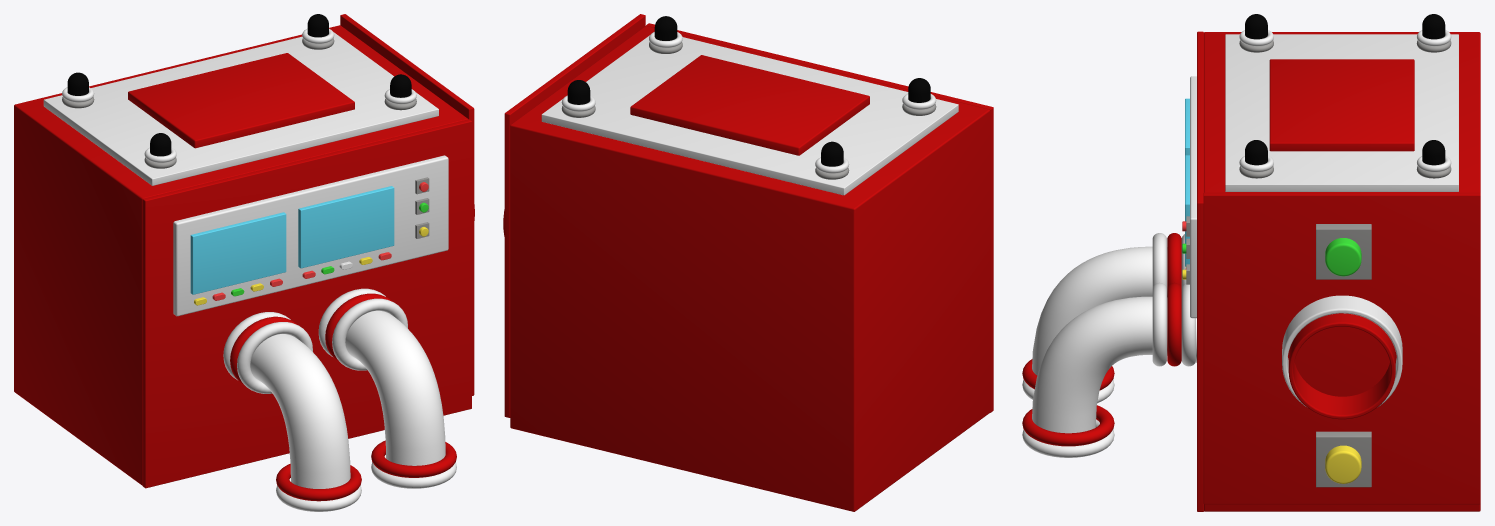
The model's file is machine33.fbx.
3 views of the same model, side by side, from view 1: azimuth 30°, elevation 25°; view 2: azimuth 150°, elevation 25°; view 3: azimuth 270°, elevation 25° (orthographic). The views are drawn at different scales.
Parts seen in each view (by area): view 1: Obj3d66-9320056-645-792, Obj3d66-9320056-646-365, Obj3d66-9320056-643-665, Obj3d66-9320056-642-184, Obj3d66-9320056-559-233, Obj3d66-9320056-576-592, Obj3d66-9320056-568-934, Obj3d66-9320056-641-361, Obj3d66-9320056-640-992, Obj3d66-9320056-644-142, Obj3d66-9320056-573-920, Obj3d66-9320056-581-375 (+8 smaller); view 2: Obj3d66-9320056-646-365, Obj3d66-9320056-643-665, Obj3d66-9320056-559-233, Obj3d66-9320056-644-142, Obj3d66-9320056-645-792; view 3: Obj3d66-9320056-644-142, Obj3d66-9320056-643-665, Obj3d66-9320056-559-233, Obj3d66-9320056-568-934, Obj3d66-9320056-646-365, Obj3d66-9320056-576-592, Obj3d66-9320056-566-623, Obj3d66-9320056-645-792, Obj3d66-9320056-567-712, Obj3d66-9320056-561-256, Obj3d66-9320056-563-60, Obj3d66-9320056-642-184 (+13 smaller).
Part boxes in pixels (x1,y1,x2,y2): Obj3d66-9320056-645-792: (142, 119, 471, 488); Obj3d66-9320056-646-365: (14, 25, 467, 485); Obj3d66-9320056-643-665: (43, 32, 438, 185); Obj3d66-9320056-642-184: (173, 155, 448, 316); Obj3d66-9320056-559-233: (128, 53, 354, 148); Obj3d66-9320056-576-592: (250, 334, 350, 488); Obj3d66-9320056-568-934: (345, 310, 445, 465); Obj3d66-9320056-641-361: (190, 212, 286, 294); Obj3d66-9320056-640-992: (298, 186, 394, 268); Obj3d66-9320056-644-142: (340, 14, 474, 395); Obj3d66-9320056-573-920: (332, 298, 407, 370); Obj3d66-9320056-581-375: (237, 322, 312, 393); Obj3d66-9320056-646-365: (510, 26, 990, 511); Obj3d66-9320056-643-665: (541, 35, 958, 195); Obj3d66-9320056-559-233: (630, 55, 869, 155); Obj3d66-9320056-644-142: (504, 14, 645, 417); Obj3d66-9320056-645-792: (646, 23, 993, 412); Obj3d66-9320056-644-142: (1203, 192, 1480, 504); Obj3d66-9320056-643-665: (1225, 34, 1458, 191); Obj3d66-9320056-559-233: (1269, 59, 1414, 151); Obj3d66-9320056-568-934: (1032, 296, 1196, 433); Obj3d66-9320056-646-365: (1204, 32, 1480, 511); Obj3d66-9320056-576-592: (1032, 246, 1167, 375); Obj3d66-9320056-566-623: (1288, 313, 1395, 419); Obj3d66-9320056-645-792: (1197, 31, 1203, 511); Obj3d66-9320056-567-712: (1282, 295, 1402, 407); Obj3d66-9320056-561-256: (1316, 431, 1371, 487); Obj3d66-9320056-563-60: (1316, 224, 1371, 279); Obj3d66-9320056-642-184: (1190, 76, 1196, 318).
Size of the model in its own units: 3222 by 2675 by 3191.
